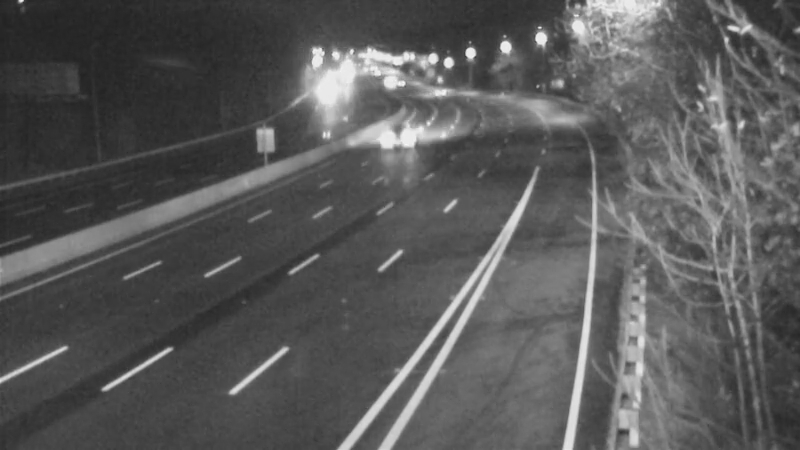vehicle: (361, 55, 411, 105), (414, 64, 464, 114), (374, 107, 424, 157)
